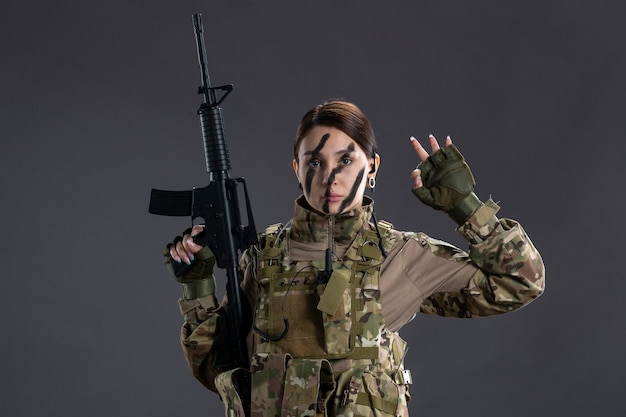gun: (146, 14, 260, 320)
